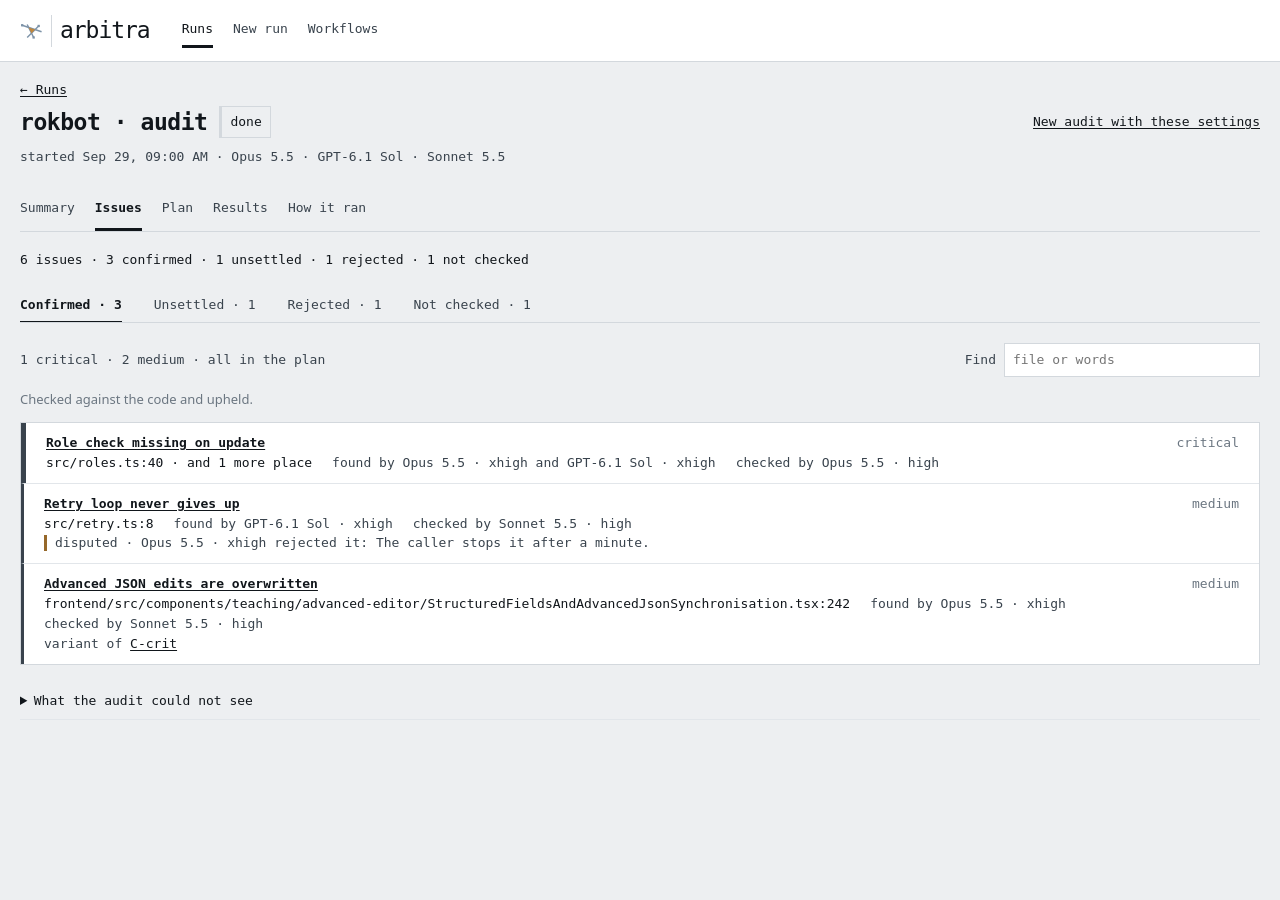
Test: the Issues tab › says once, not on every row, that a run from before the check gave reasons has none
The width and height of the screenshot is (1280, 900).
Click the tab "Rejected · 1" at x=334, y=305, box [288, 288, 381, 322]
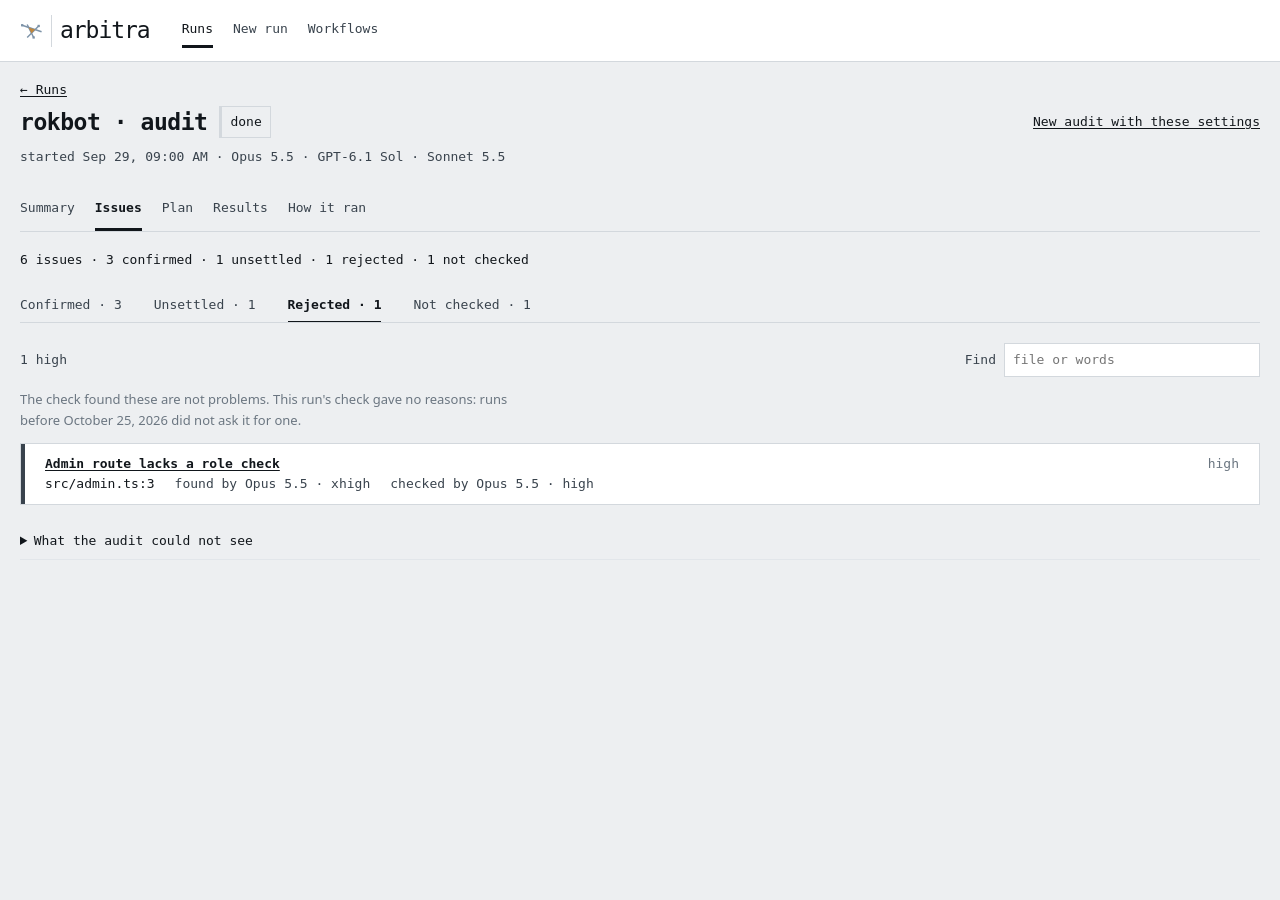
Check: the text "The check found these are not problems. This run's check gave no reasons: runs before October 25, 2026 did not ask it fo" is shown, box [20, 390, 507, 429]
